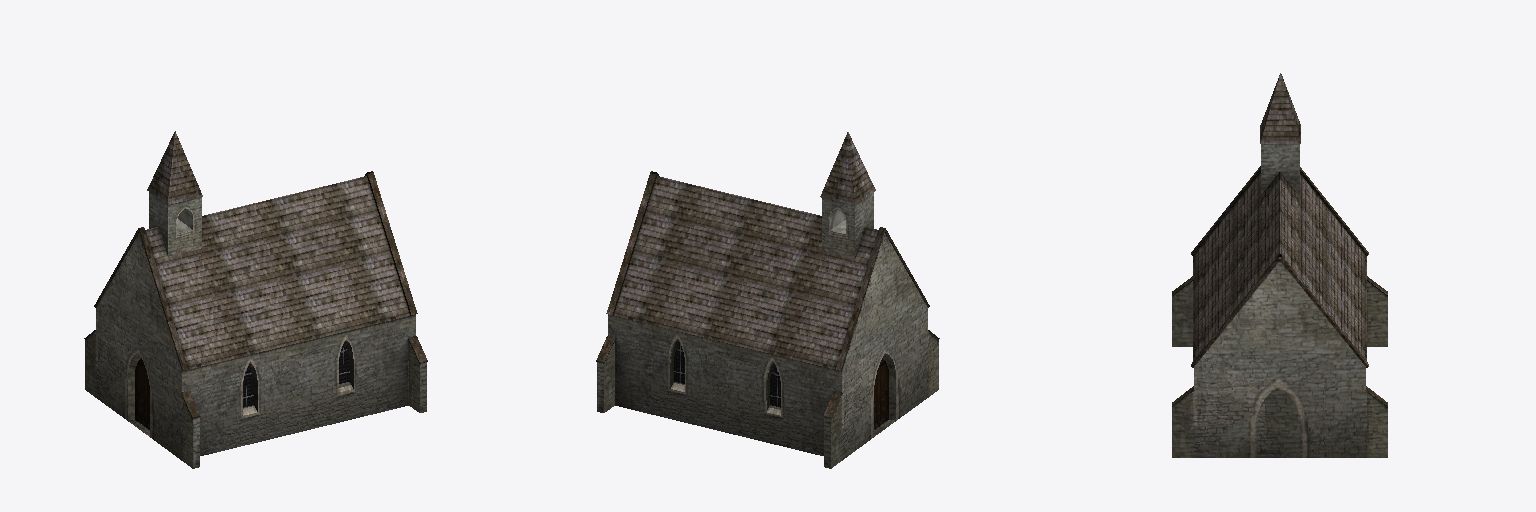
3 renders of one model, left to right at view 1: azimuth 30°, elevation 25°; view 2: azimuth 150°, elevation 25°; view 3: azimuth 270°, elevation 25°, orthographic.
Parts seen in each view (by area): view 1: Mesh_chapel; view 2: Mesh_chapel; view 3: Mesh_chapel.
Part boxes in pixels (x1,y1,x2,y2): Mesh_chapel: (84, 131, 427, 468); Mesh_chapel: (596, 132, 939, 468); Mesh_chapel: (1172, 73, 1387, 457).
Size of the model in its own units: 8.3 by 9.76 by 6.62.
1 materials, 1 textured.